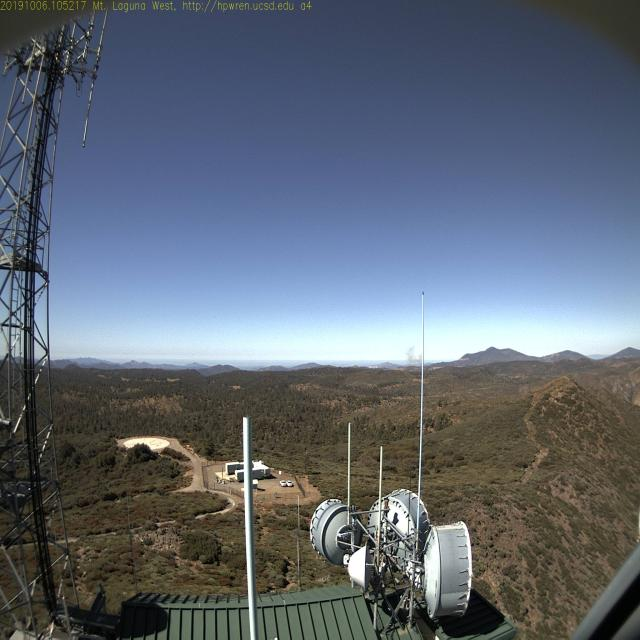smoke: (400, 343, 428, 369)
